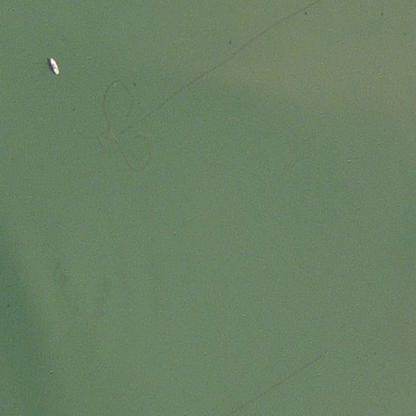ship: (42, 50, 62, 78)
